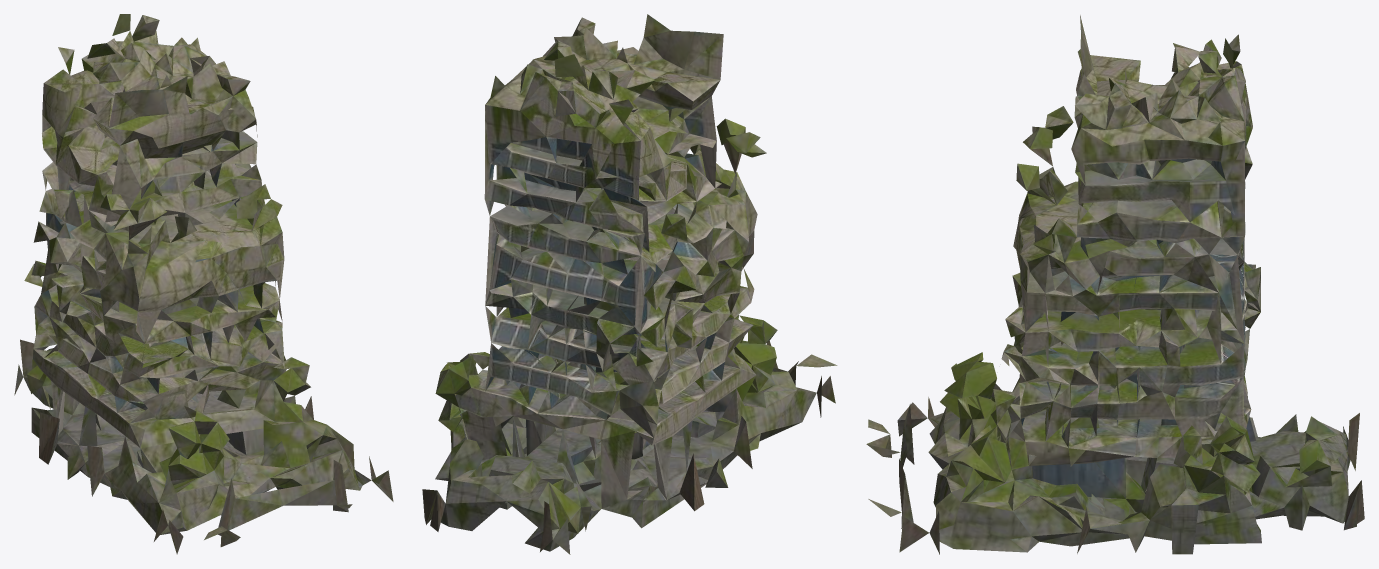
Rendered from cityTower.glb.
3 views of the same model, side by side, from view 1: azimuth 30°, elevation 25°; view 2: azimuth 150°, elevation 25°; view 3: azimuth 270°, elevation 25° (orthographic). The views are drawn at different scales.
Bounding box in the file's own units: 1.09 × 1.89 × 1.9.
Materials: 1 (1 with a texture image).
